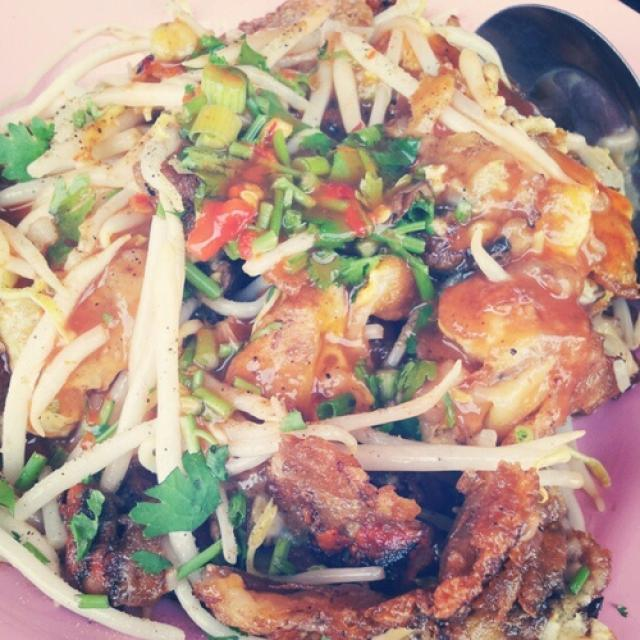炸货点心: (8, 13, 620, 621)
蛋糕甜品: (8, 13, 620, 621)
